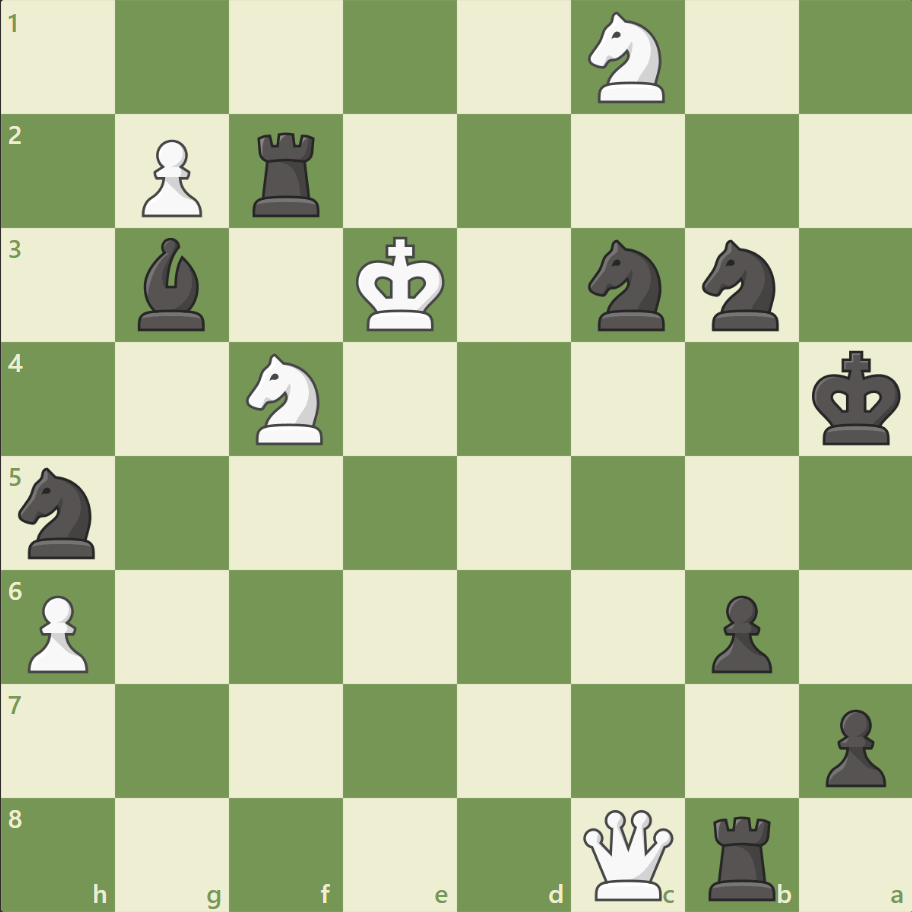K: (351, 231, 451, 339)
N: (579, 7, 676, 110), (238, 348, 335, 450)
P: (20, 586, 95, 677), (133, 132, 208, 223)
Q: (578, 804, 677, 903)
b: (131, 233, 215, 336)
k: (806, 344, 906, 452)
n: (11, 461, 108, 564), (692, 234, 789, 337), (579, 234, 676, 337)
p: (701, 586, 776, 677), (815, 700, 889, 791)
r: (700, 806, 783, 904), (246, 125, 329, 222)
